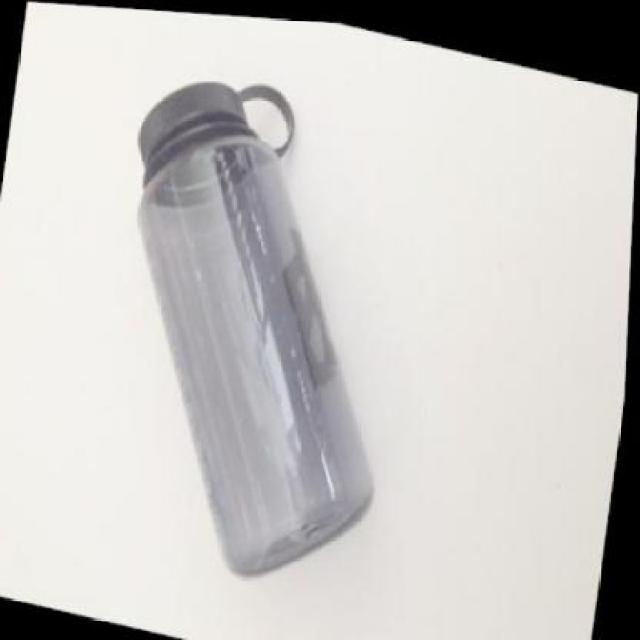Plastic: (135, 71, 378, 579)
